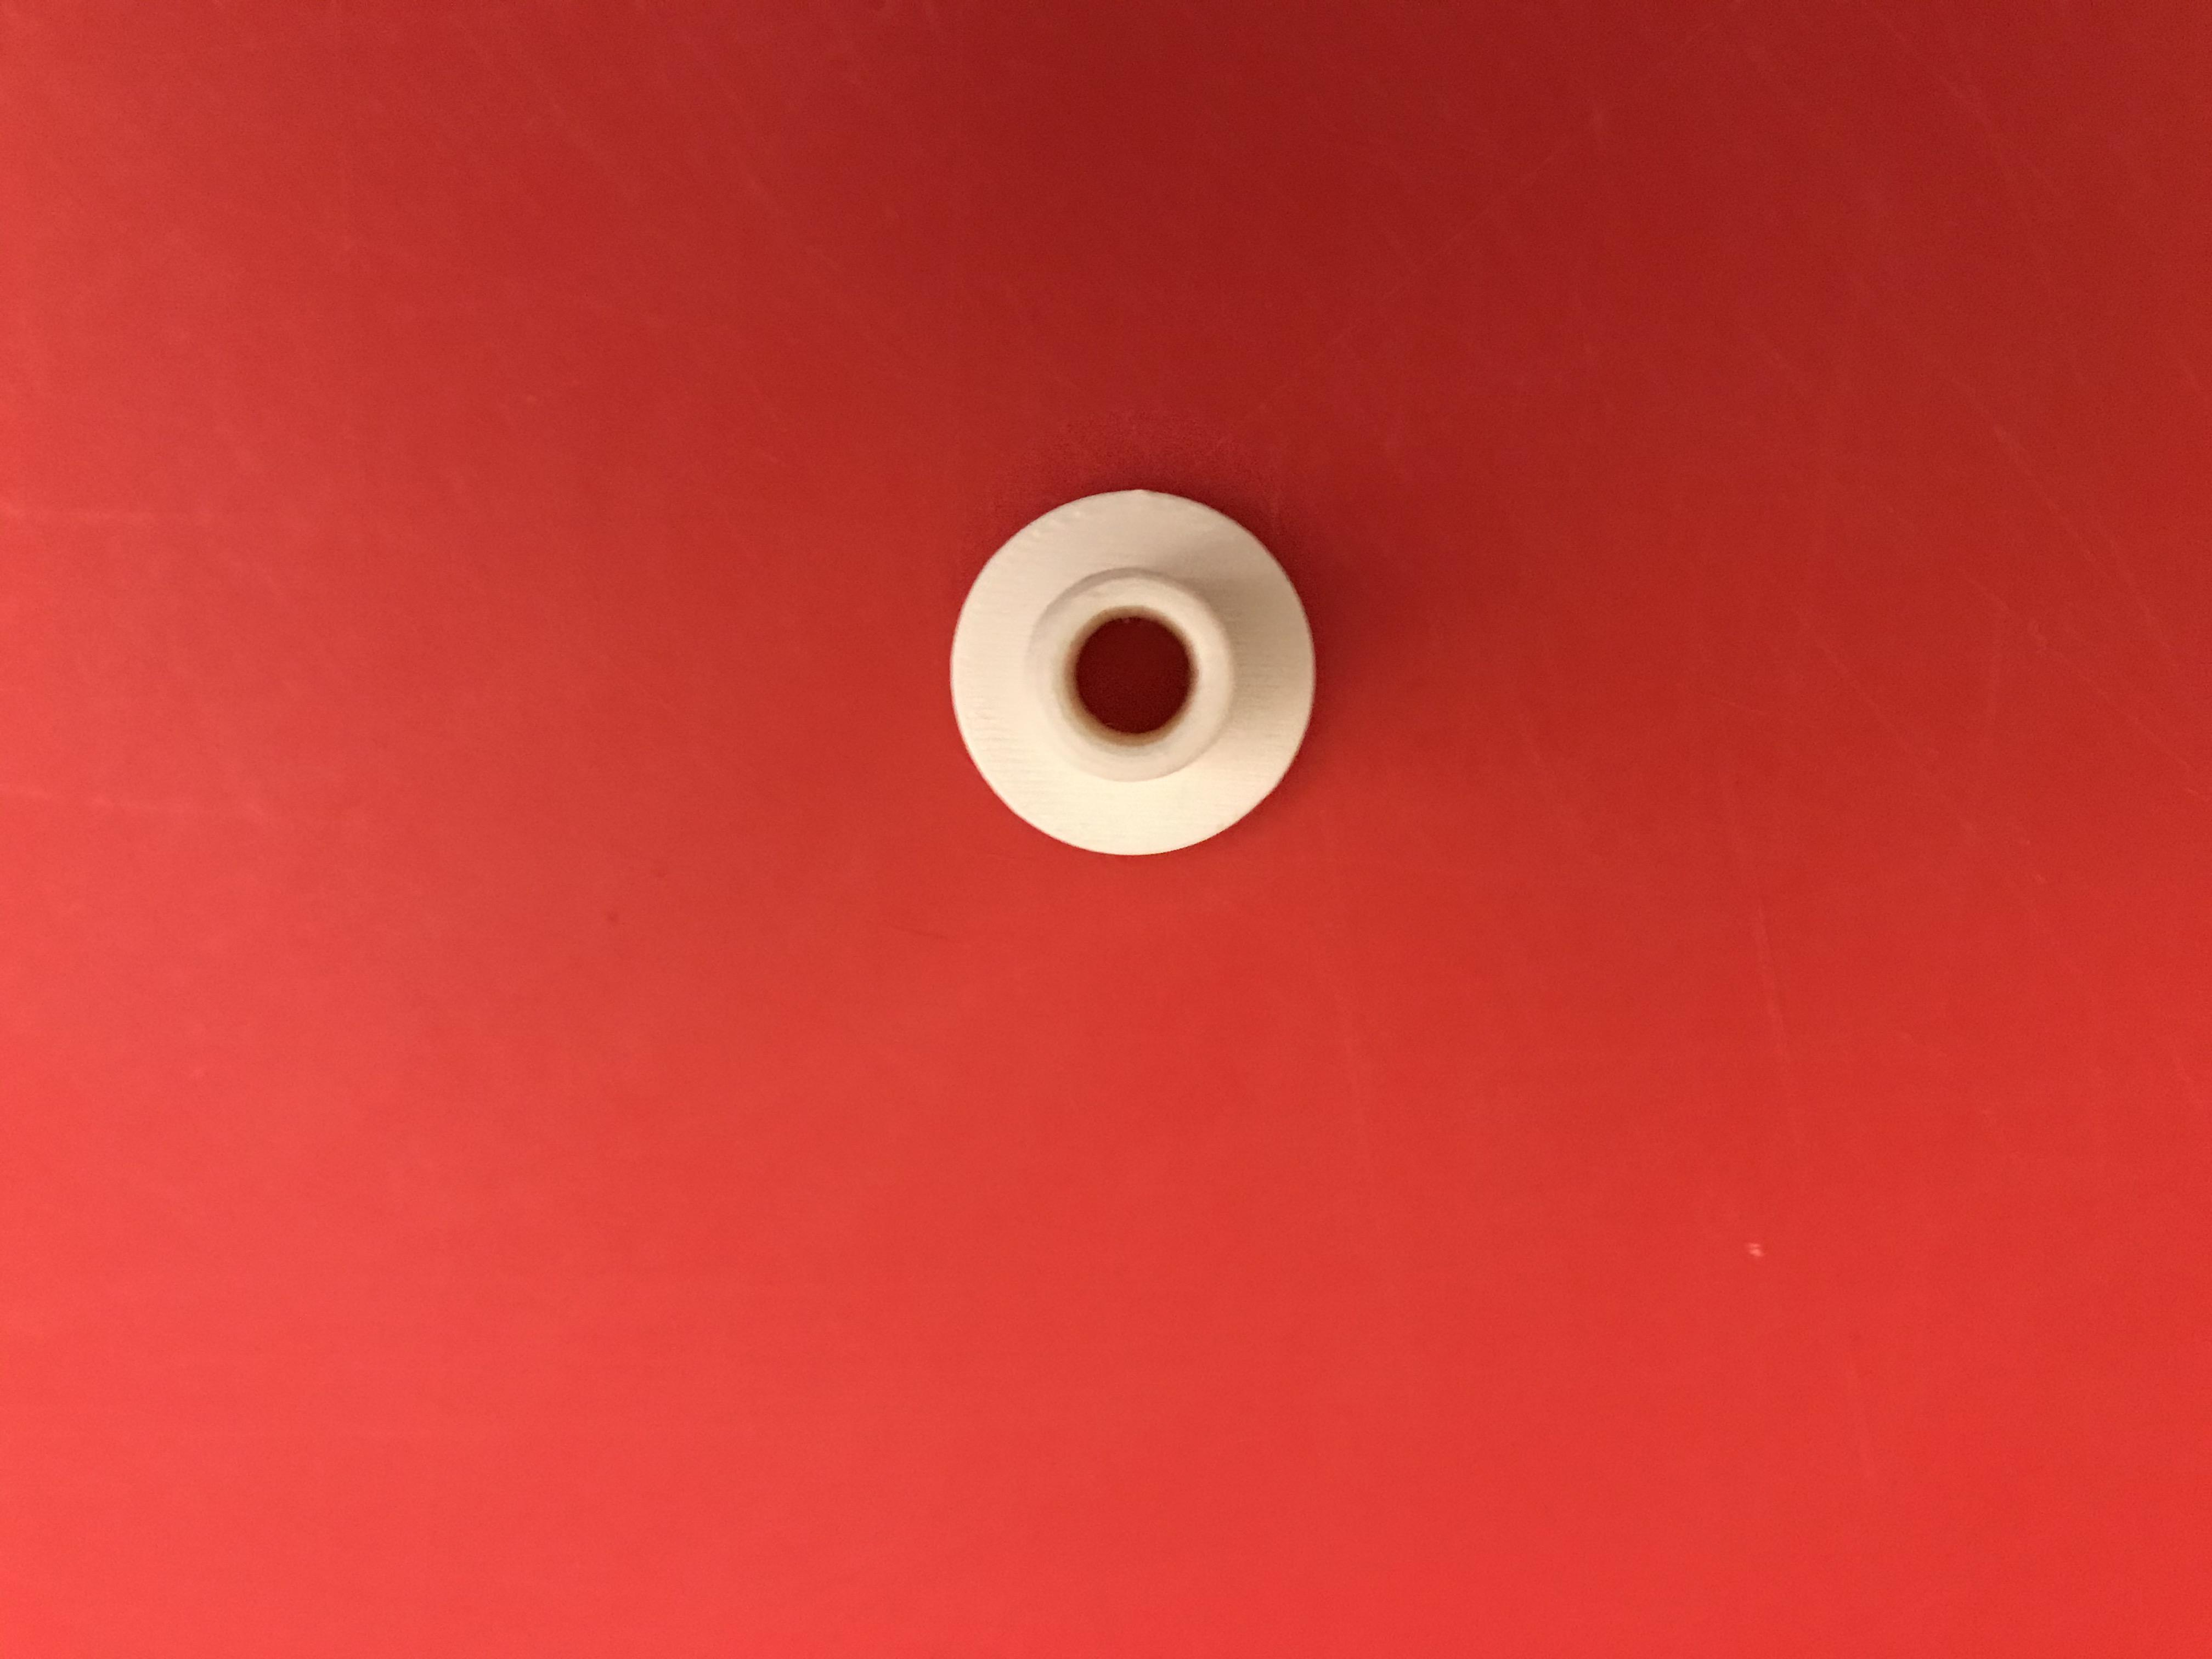White Cone: (921, 479, 1329, 868)
